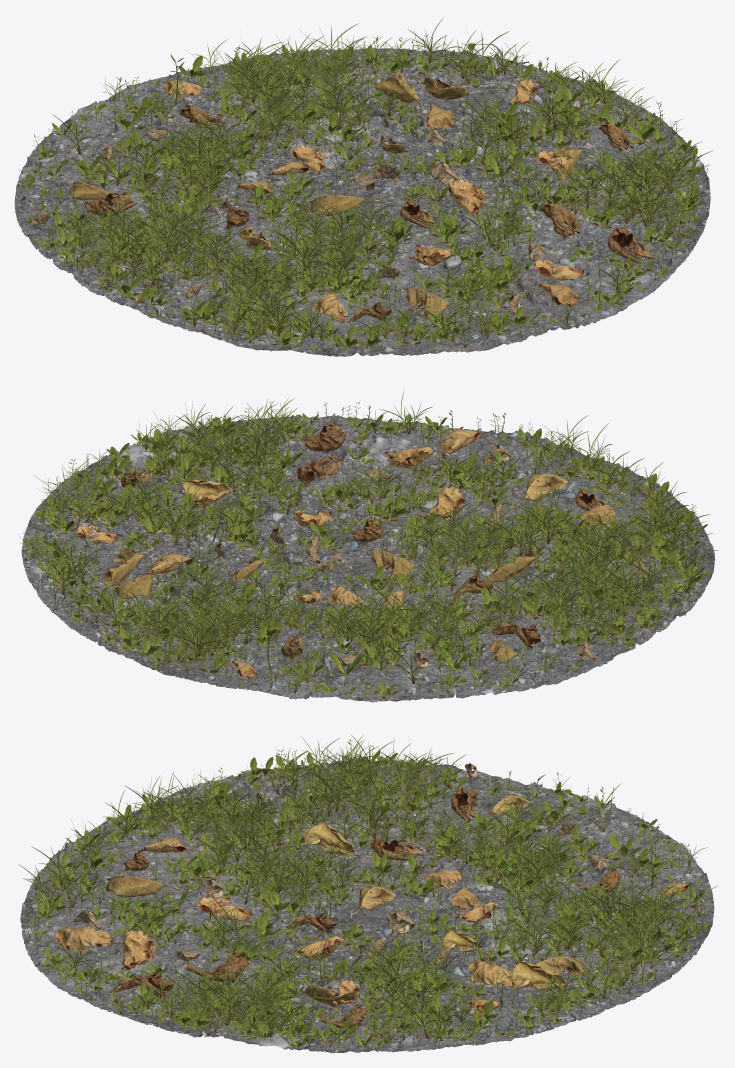
The model's file is leaves_in_the_garden.glb.
3 views of the same model, one above another, from view 1: azimuth 30°, elevation 25°; view 2: azimuth 150°, elevation 25°; view 3: azimuth 270°, elevation 25° (orthographic).
Visible parts, largest first — view 1: Forest002_micro_plants_0, ground_close_08_ground_close_08_0, Forest001_s_list_02_10kuw_0, Forest001_s_list_04_10kuw_0, Forest001_default_0, Forest001_s_list_03_10kuw_0, s_list_01_10kuwb_default_0, s_list_04_10kuwa_s_list_04_10kuw_0, s_list_02_10kuwa_s_list_02_10kuw_0, R4_micro_plants_0, s_list_03_10kuwb_s_list_03_10kuw_0; view 2: Forest002_micro_plants_0, ground_close_08_ground_close_08_0, Forest001_s_list_02_10kuw_0, Forest001_s_list_04_10kuw_0, Forest001_default_0, Forest001_s_list_03_10kuw_0, s_list_04_10kuwa_s_list_04_10kuw_0, s_list_01_10kuwb_default_0, s_list_02_10kuwa_s_list_02_10kuw_0, R4_micro_plants_0, s_list_03_10kuwb_s_list_03_10kuw_0; view 3: Forest002_micro_plants_0, ground_close_08_ground_close_08_0, Forest001_s_list_02_10kuw_0, Forest001_s_list_04_10kuw_0, Forest001_default_0, s_list_04_10kuwa_s_list_04_10kuw_0, Forest001_s_list_03_10kuw_0, s_list_02_10kuwa_s_list_02_10kuw_0, s_list_01_10kuwb_default_0, R4_micro_plants_0, s_list_03_10kuwb_s_list_03_10kuw_0.
Boxes of the visible parts, box(x1,y1,x2,y2) form: Forest002_micro_plants_0: box(19, 17, 713, 352); ground_close_08_ground_close_08_0: box(14, 44, 710, 356); Forest001_s_list_02_10kuw_0: box(163, 66, 583, 322); Forest001_s_list_04_10kuw_0: box(69, 73, 582, 249); Forest001_default_0: box(85, 105, 633, 325); Forest001_s_list_03_10kuw_0: box(29, 126, 554, 314); s_list_01_10kuwb_default_0: box(539, 200, 655, 263); s_list_04_10kuwa_s_list_04_10kuw_0: box(401, 75, 469, 318); s_list_02_10kuwa_s_list_02_10kuw_0: box(409, 244, 579, 307); R4_micro_plants_0: box(48, 54, 186, 168); s_list_03_10kuwb_s_list_03_10kuw_0: box(345, 162, 401, 191); Forest002_micro_plants_0: box(19, 390, 718, 699); ground_close_08_ground_close_08_0: box(21, 413, 715, 702); Forest001_s_list_02_10kuw_0: box(75, 447, 618, 679); Forest001_s_list_04_10kuw_0: box(112, 480, 536, 662); Forest001_default_0: box(120, 467, 606, 659); Forest001_s_list_03_10kuw_0: box(213, 443, 653, 673); s_list_04_10kuwa_s_list_04_10kuw_0: box(100, 474, 568, 592); s_list_01_10kuwb_default_0: box(296, 421, 345, 486); s_list_02_10kuwa_s_list_02_10kuw_0: box(419, 429, 495, 520); R4_micro_plants_0: box(257, 623, 467, 683); s_list_03_10kuwb_s_list_03_10kuw_0: box(294, 537, 345, 576); Forest002_micro_plants_0: box(18, 735, 717, 1052); ground_close_08_ground_close_08_0: box(20, 755, 714, 1053); Forest001_s_list_02_10kuw_0: box(99, 838, 697, 1013); Forest001_s_list_04_10kuw_0: box(288, 795, 586, 1004); Forest001_default_0: box(123, 787, 620, 1028); s_list_04_10kuwa_s_list_04_10kuw_0: box(105, 875, 586, 990); Forest001_s_list_03_10kuw_0: box(72, 763, 612, 966); s_list_02_10kuwa_s_list_02_10kuw_0: box(55, 896, 252, 953); s_list_01_10kuwb_default_0: box(110, 951, 250, 998); R4_micro_plants_0: box(569, 784, 658, 888); s_list_03_10kuwb_s_list_03_10kuw_0: box(386, 907, 414, 938).
Size of the model in its own units: 1.83 by 0.2242 by 1.86.
Materials: 6 (6 with a texture image).
